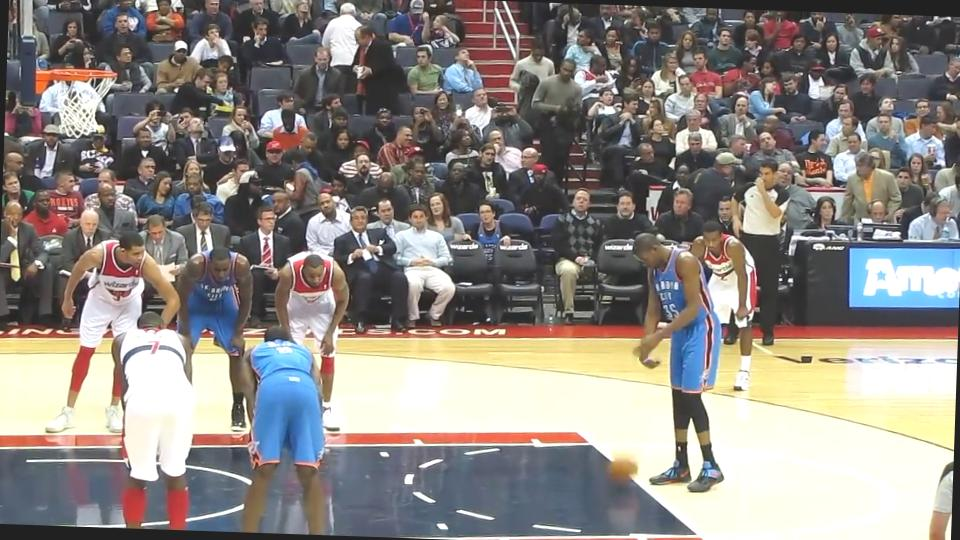hoop: (35, 66, 120, 90)
